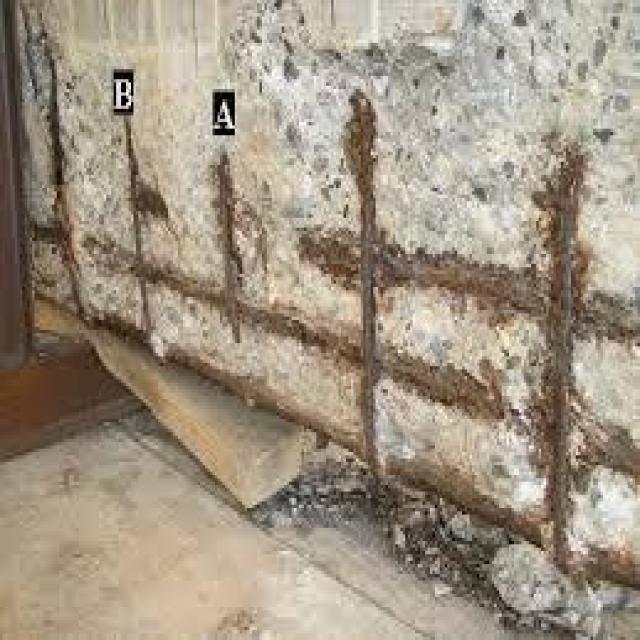non-corrosion: (0, 0, 640, 614)
